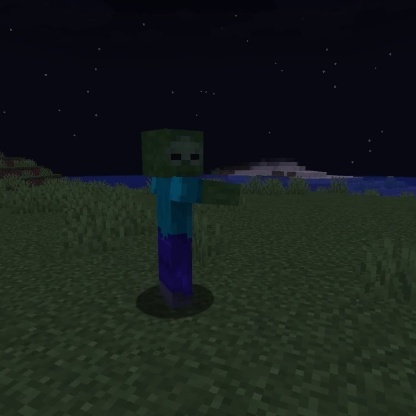zombie: (134, 127, 245, 311)
